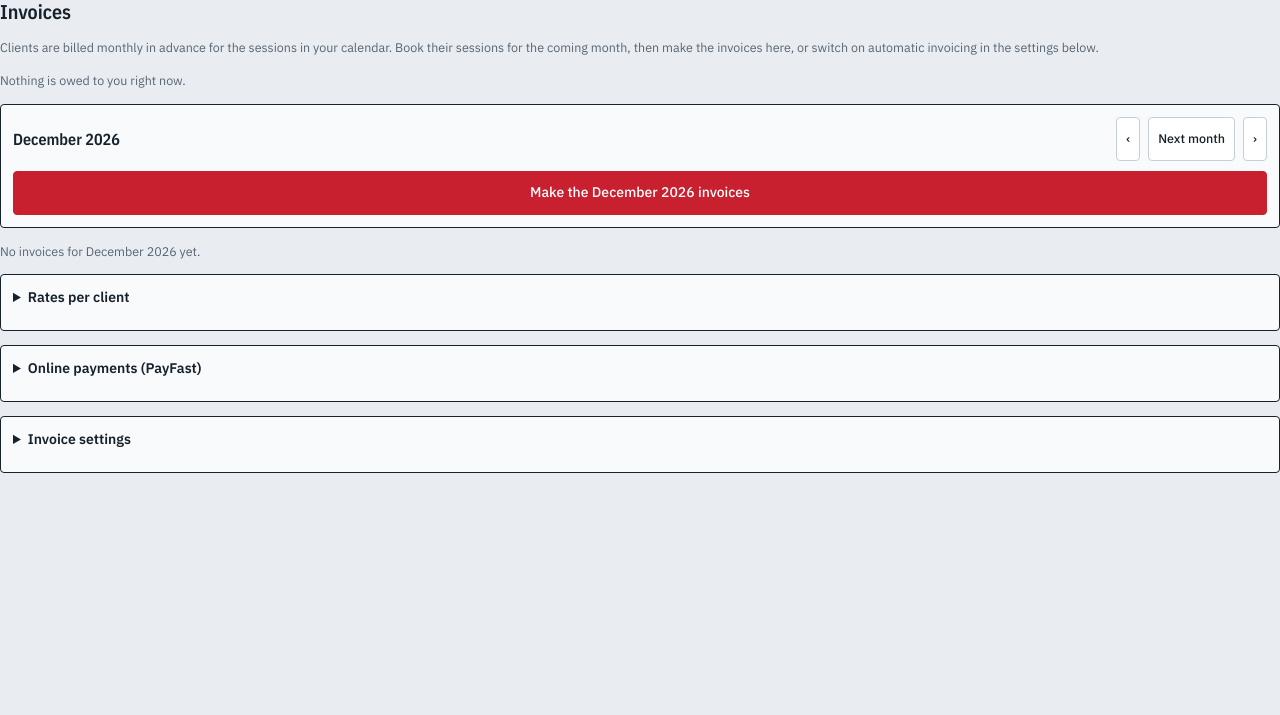
Test case: the Invoices tab › makes the month’s invoices and says who was skipped and why
Expected: the text "No invoices for December 2026 yet." is shown, [0,242,200,258]
What coordinates should you click on to do the following:
click the button "Make the December 2026 invoices"
I would click on:
 (640, 192)
Its box is [13,170,1267,214].
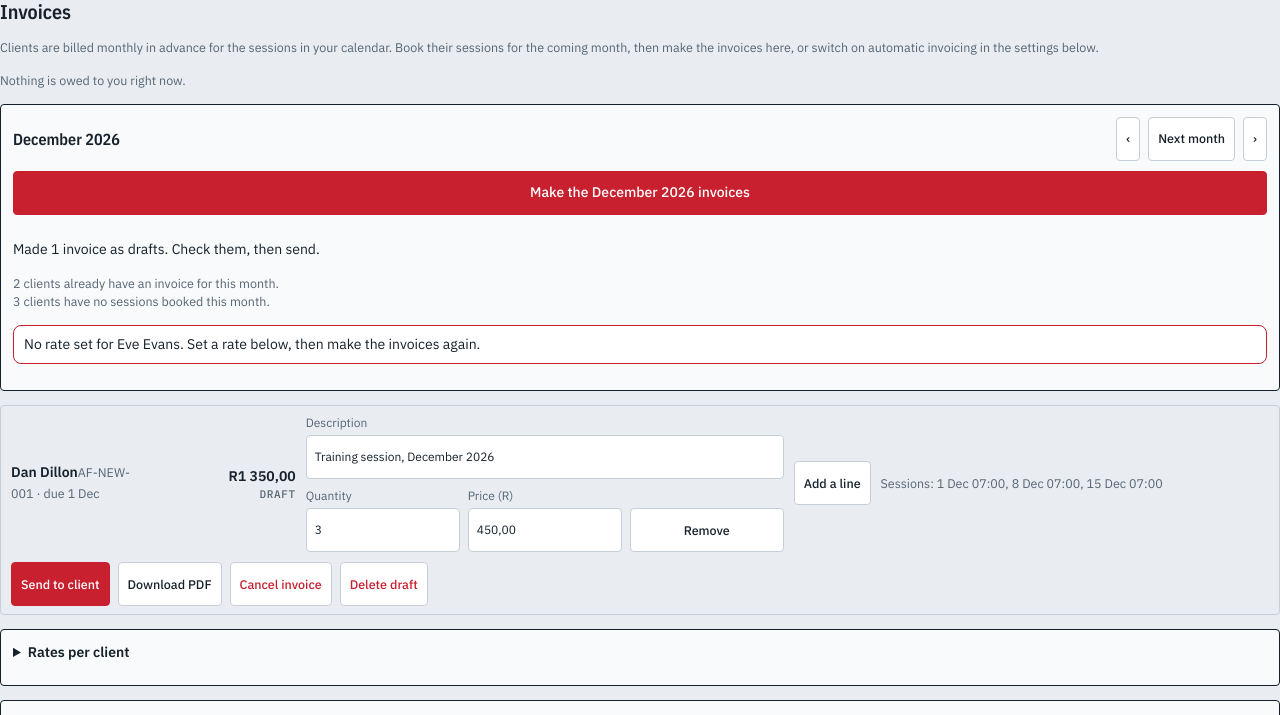
Expected: the message named "What was made" shows "Made 1 invoice as drafts", [13,240,320,258]
Expected: the message named "What was made" shows "2 clients already have an invoice", [13,274,279,290]
Expected: the message named "What was made" shows "3 clients have no sessions booked", [13,293,270,309]
